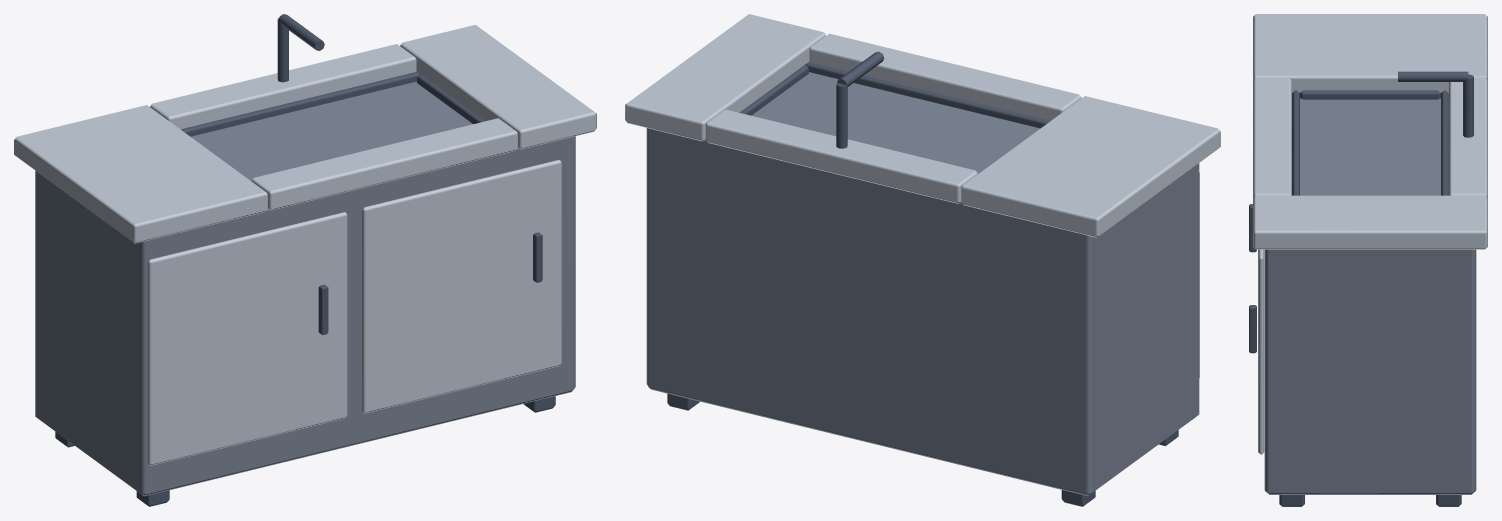
The model's file is garden-outdoor-sink.glb.
3 views of the same model, side by side, from view 1: azimuth 30°, elevation 25°; view 2: azimuth 150°, elevation 25°; view 3: azimuth 270°, elevation 25° (orthographic). The views are drawn at different scales.
Parts seen in each view (by area): view 1: garden-outdoor-sink; view 2: garden-outdoor-sink; view 3: garden-outdoor-sink.
Boxes of the visible parts, box(x1,y1,x2,y2) form: garden-outdoor-sink: box(14, 14, 596, 506); garden-outdoor-sink: box(625, 14, 1220, 506); garden-outdoor-sink: box(1249, 14, 1487, 506).
Bounding box in the file's own units: 1.3 × 0.98 × 0.6.
